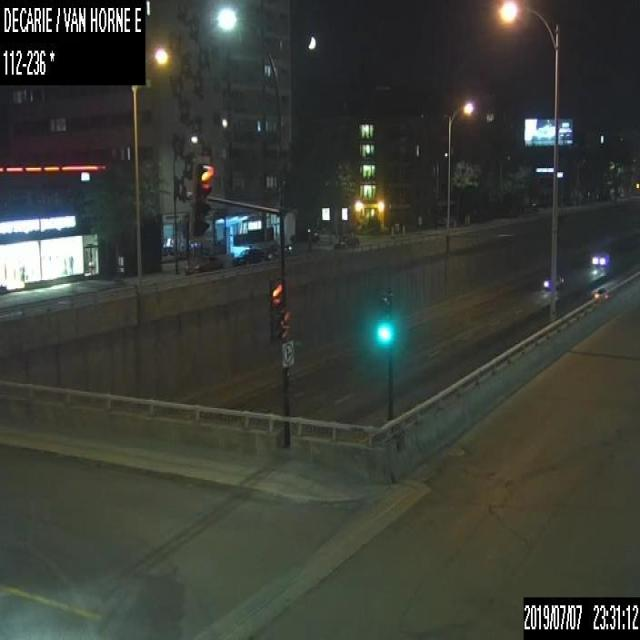vehicle: (184, 252, 224, 274), (233, 246, 263, 264), (284, 238, 313, 254), (333, 232, 359, 247), (543, 274, 566, 289), (263, 241, 280, 260), (591, 250, 609, 266)
